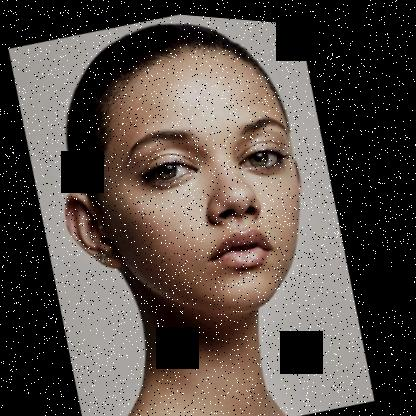Female: (21, 9, 349, 358)
